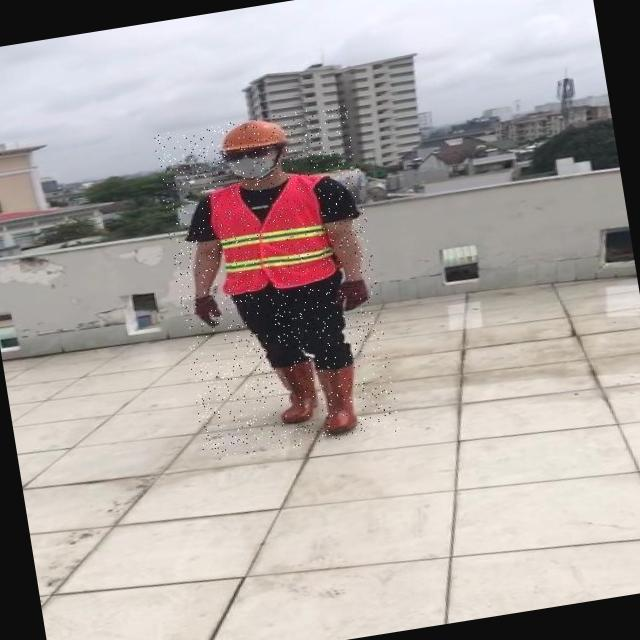boots: (313, 362, 366, 437), (266, 359, 321, 424)
gloves: (315, 253, 391, 338), (177, 282, 254, 348)
helmet: (213, 113, 294, 156)
vest: (209, 170, 343, 298)
